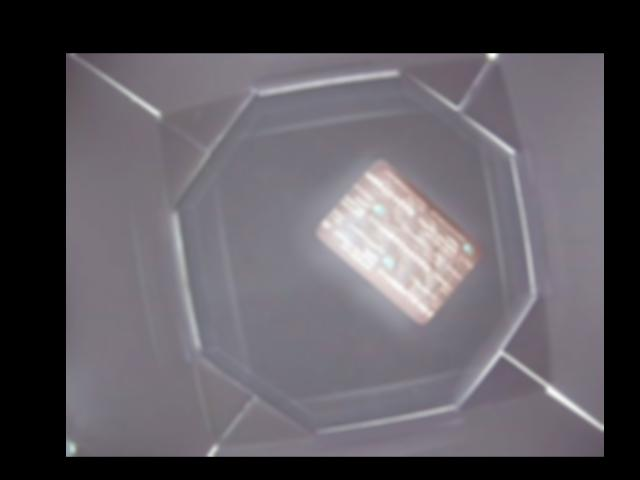Medicine: (315, 154, 481, 326)
